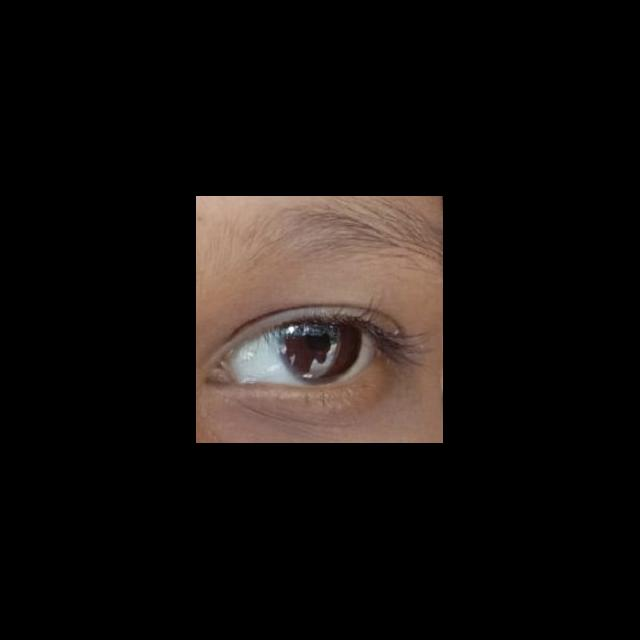eye: (230, 321, 380, 389)
iris: (278, 323, 363, 385)
